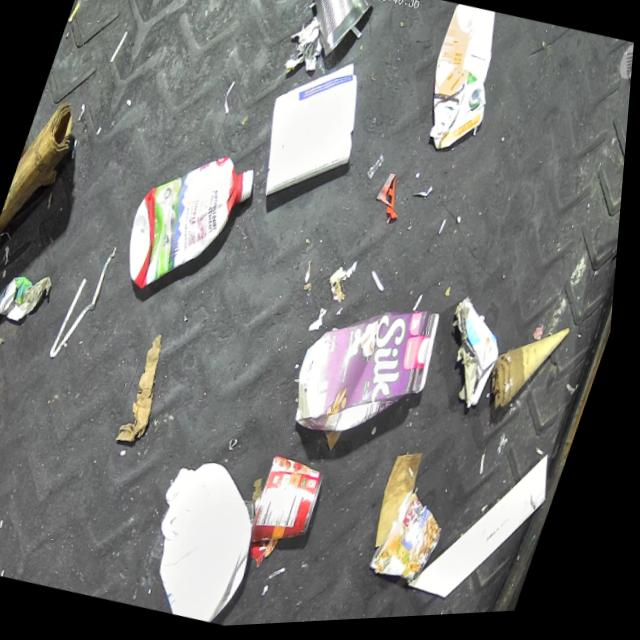can: (252, 452, 339, 558), (374, 488, 462, 592), (289, 0, 378, 68), (0, 270, 8, 360)
milk_jug: (134, 450, 288, 633)
non_white_jug: (286, 286, 455, 462), (114, 137, 266, 310), (408, 4, 518, 165)
